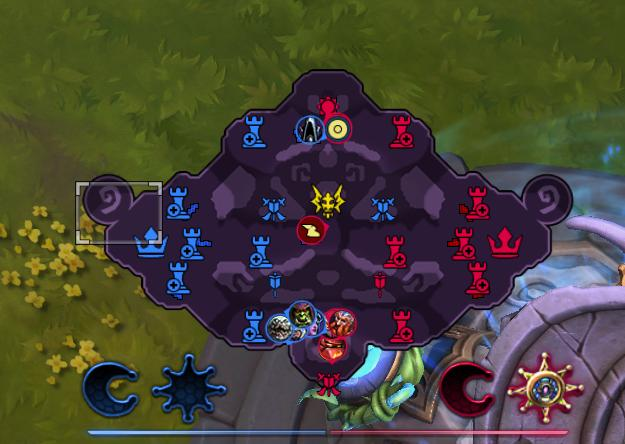blue nexus: (134, 224, 173, 261)
blue player: (294, 114, 325, 145), (287, 300, 316, 330), (264, 313, 292, 343), (302, 306, 327, 337), (287, 324, 308, 342), (306, 312, 320, 335)
blue tower: (165, 185, 198, 220), (165, 260, 191, 298), (179, 226, 207, 260), (246, 234, 273, 268), (241, 113, 266, 149), (241, 308, 265, 342)
red nexus: (485, 225, 523, 258)
red player: (296, 214, 328, 245), (325, 307, 356, 337), (317, 335, 348, 363)
red tower: (461, 185, 490, 221), (463, 260, 490, 298), (387, 308, 415, 344), (388, 113, 414, 149), (447, 226, 475, 259), (382, 234, 407, 269)
